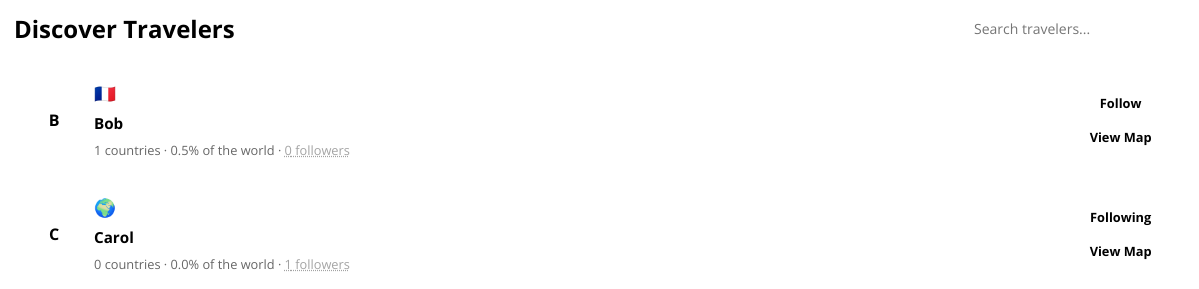
Test: HomeLoggedIn › shows empty message when search has no results
Type "zzznomatch" into the field with placeholder "Search travelers..." at (1072, 28), box [962, 13, 1182, 44]
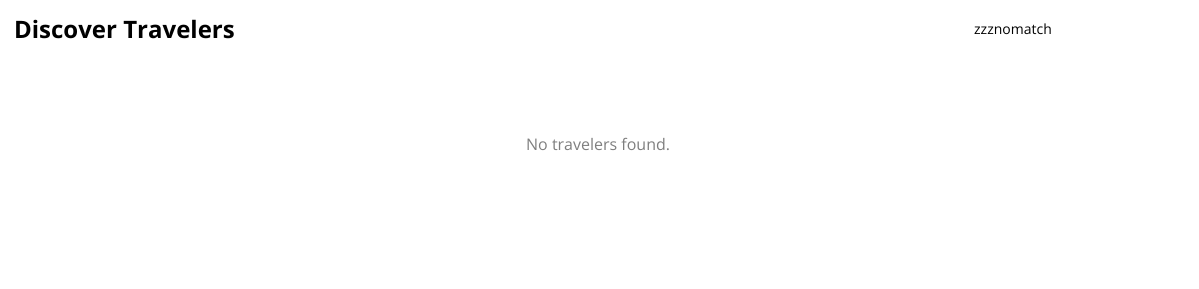
Expected: the text "No travelers found." is shown, [526, 133, 670, 155]
